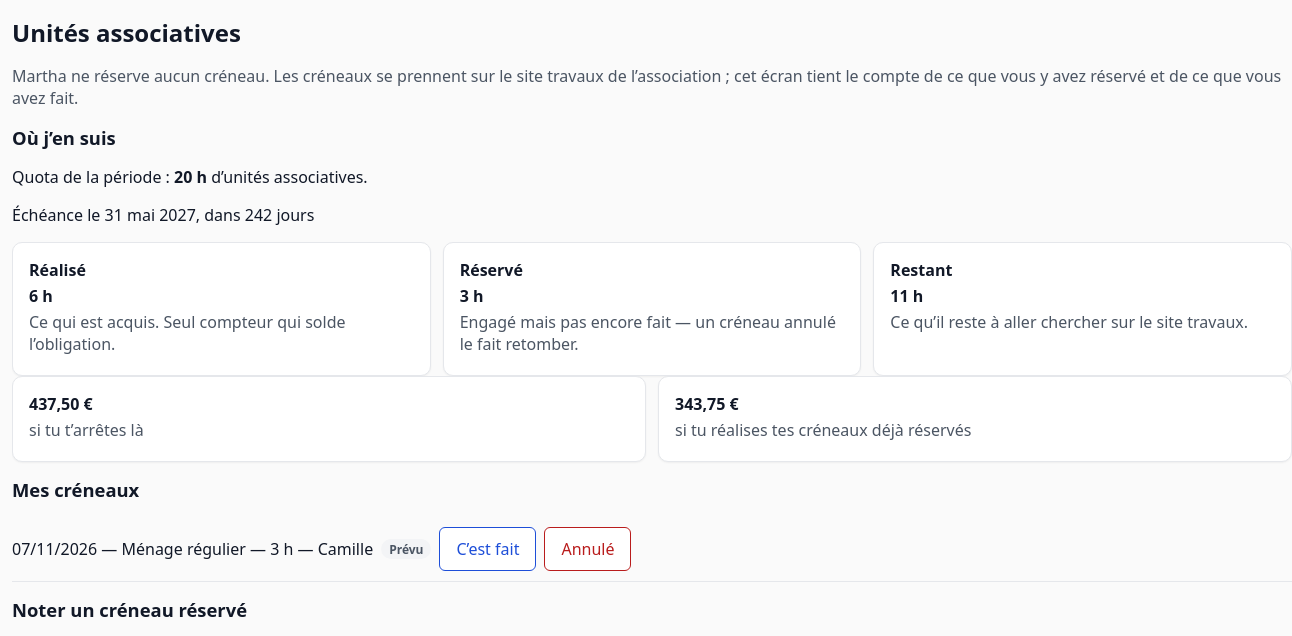
Test: UnitesAssociativesPage · gestes › remonte l’erreur d’une mutation refusée
The image size is (1292, 636).
Click the button "C’est fait" at (488, 549), box [440,527,536,571]
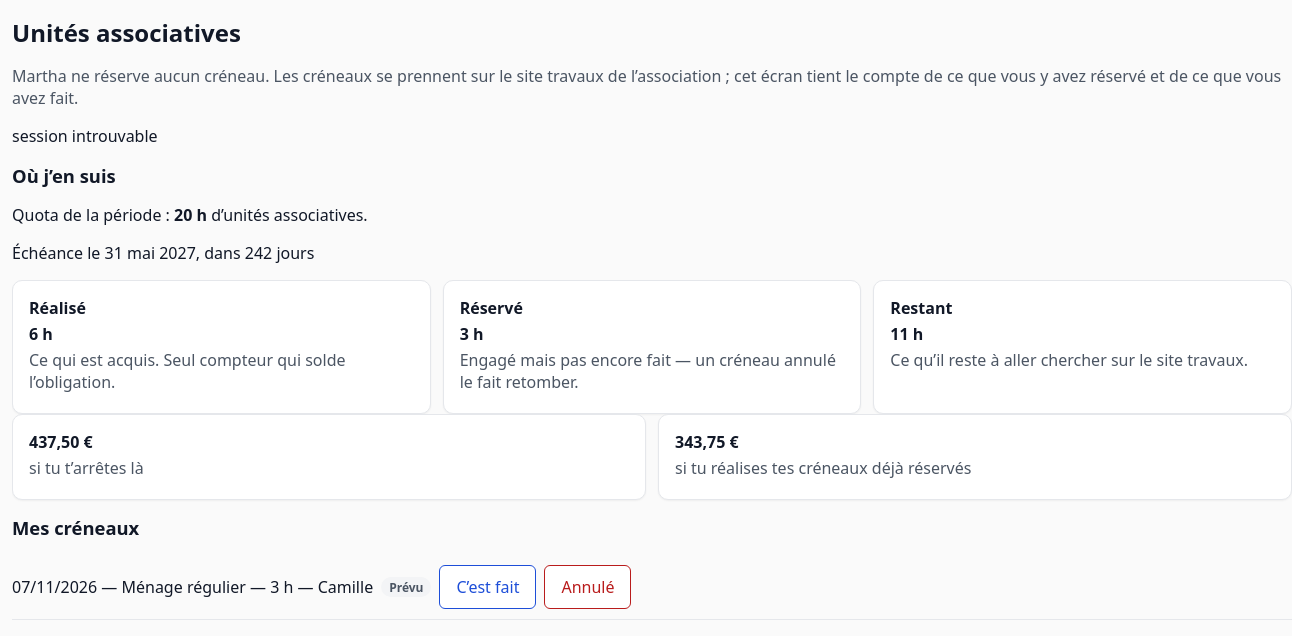
Now the message "session introuvable" is shown, box [12,125,158,147]
